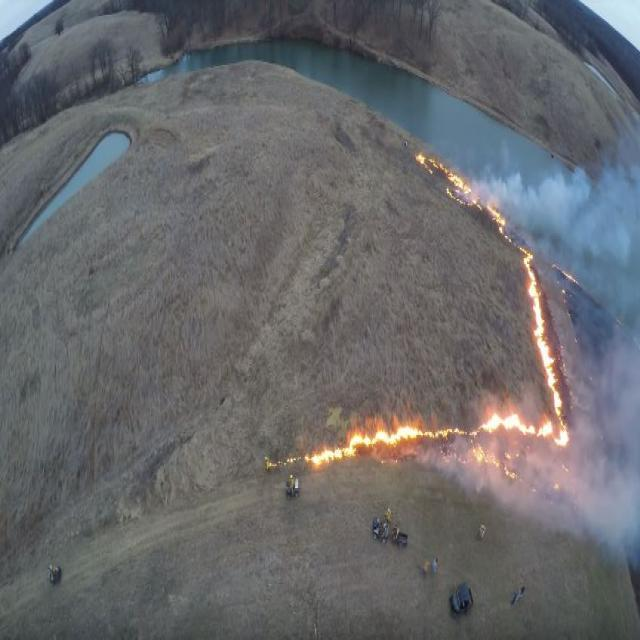Fire: (274, 391, 580, 500), (415, 136, 547, 272), (512, 233, 580, 441)
Smoke: (406, 436, 640, 552), (460, 164, 590, 238), (588, 164, 632, 268)
